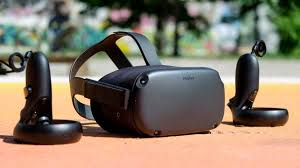oculus: (67, 30, 227, 138)
